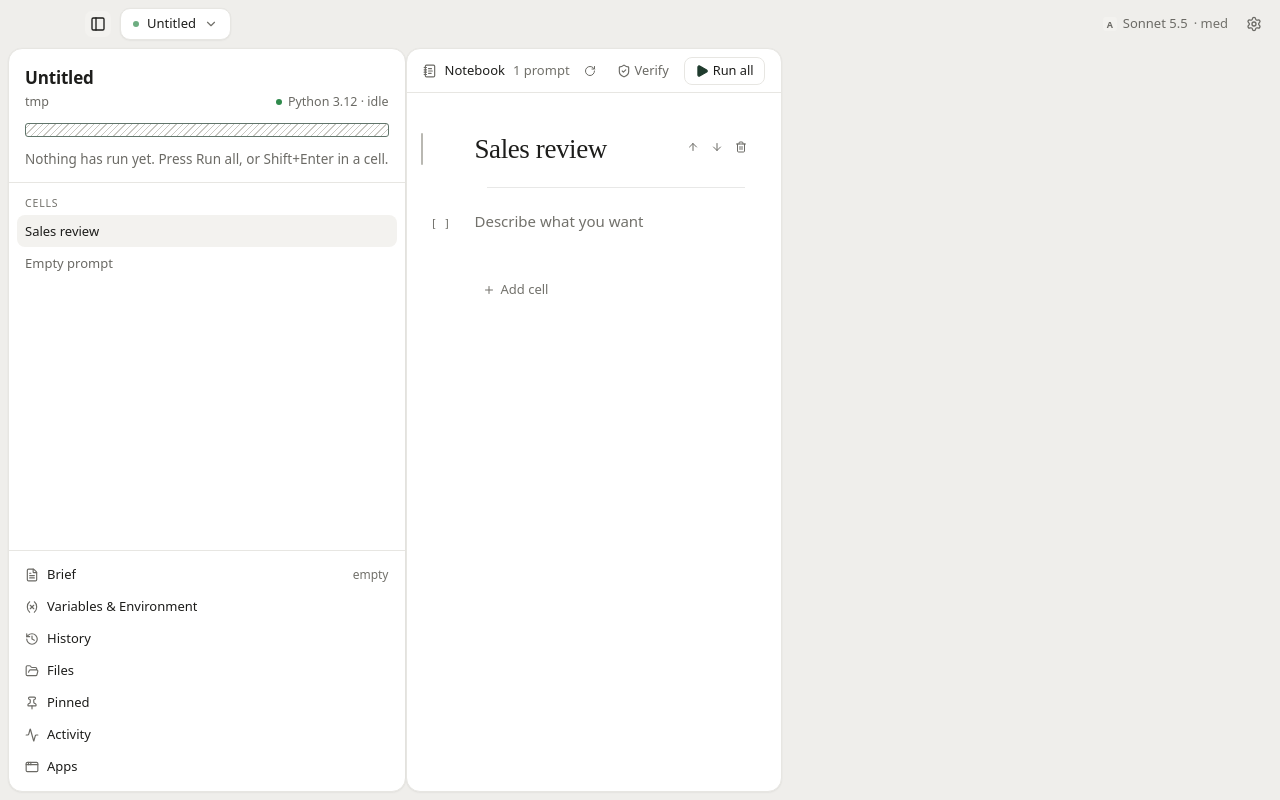
Test case: App › shows why a run could not start
Type "Plot revenue" into the text box named "Prompt" at (560, 221), box [474,209,645,233]
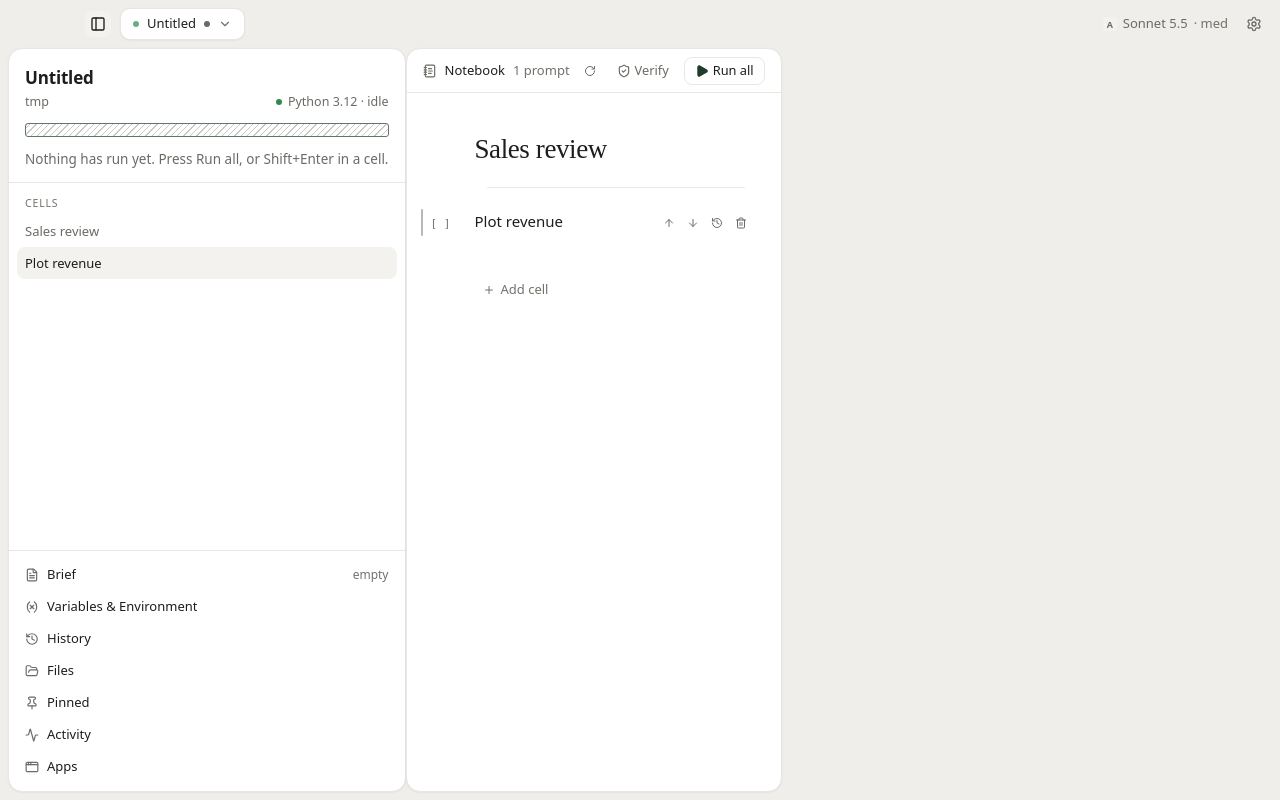
Click the button named "Run cell 1" at (448, 224), box [430,212,466,236]
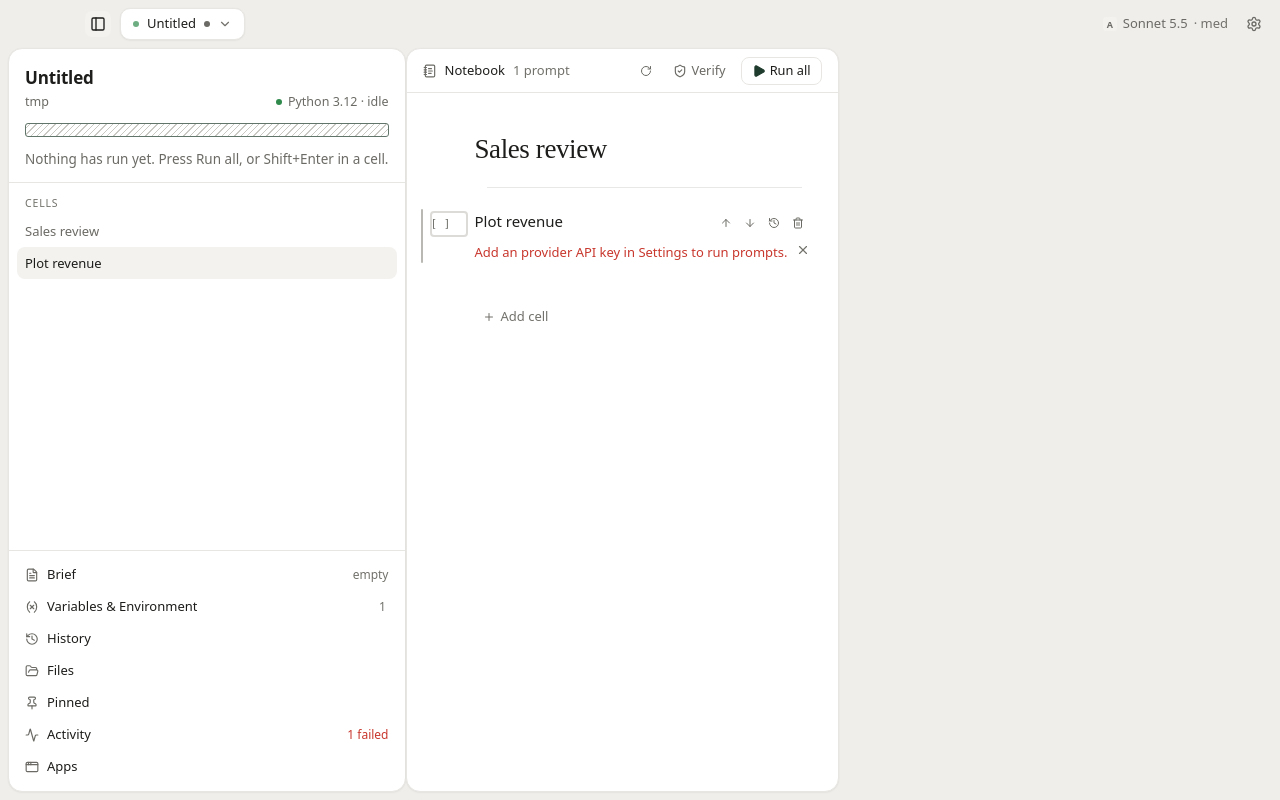
Expected: the message shows "Add an provider API key", [474,243,788,261]
